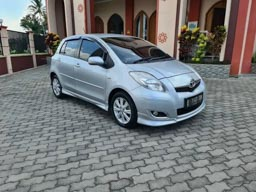plat: (185, 93, 202, 107)
